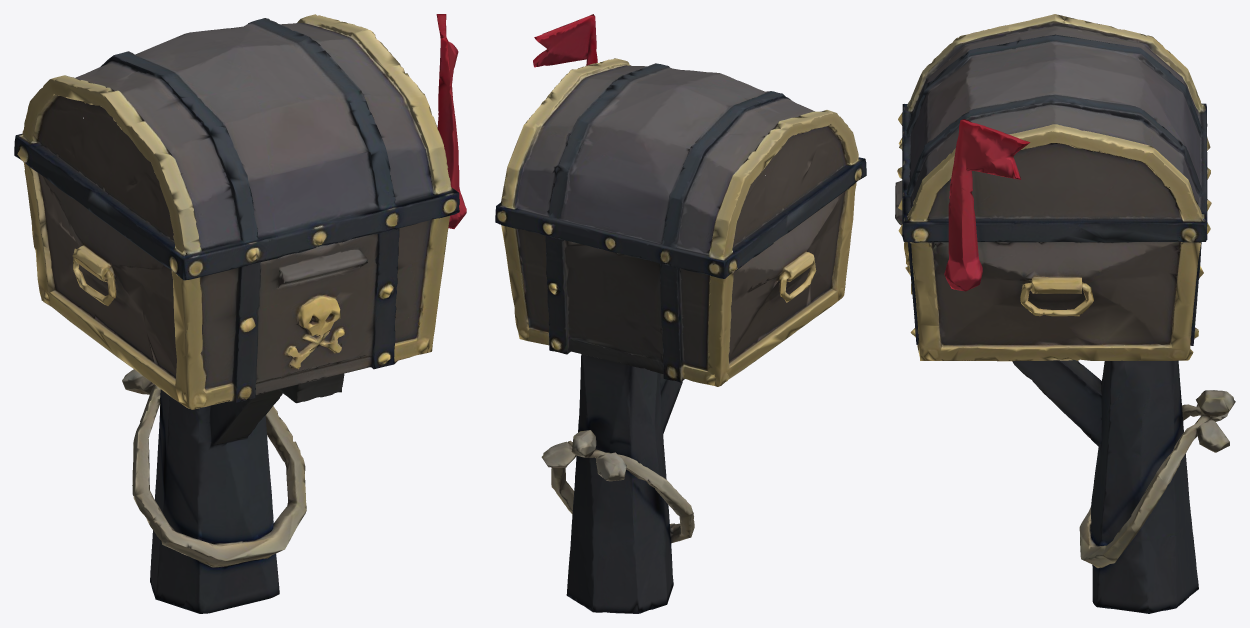
The model's file is LetterBox_optimized.glb.
The picture shows the model from 3 angles, left to right: view 1: azimuth 30°, elevation 25°; view 2: azimuth 150°, elevation 25°; view 3: azimuth 270°, elevation 25°; orthographic projection. The views are drawn at different scales.
Visible parts, largest first — view 1: tripo_node_87b8a375-40db-4c2f-9fdd-f2eaf2c5dbe9; view 2: tripo_node_87b8a375-40db-4c2f-9fdd-f2eaf2c5dbe9; view 3: tripo_node_87b8a375-40db-4c2f-9fdd-f2eaf2c5dbe9.
Part boxes in pixels (bbox=[...]): tripo_node_87b8a375-40db-4c2f-9fdd-f2eaf2c5dbe9: bbox=[14, 14, 466, 613]; tripo_node_87b8a375-40db-4c2f-9fdd-f2eaf2c5dbe9: bbox=[495, 14, 866, 613]; tripo_node_87b8a375-40db-4c2f-9fdd-f2eaf2c5dbe9: bbox=[895, 14, 1235, 613].
Bounding box in the file's own units: 0.6201 × 1 × 0.5859.
1 material, 1 textured.
